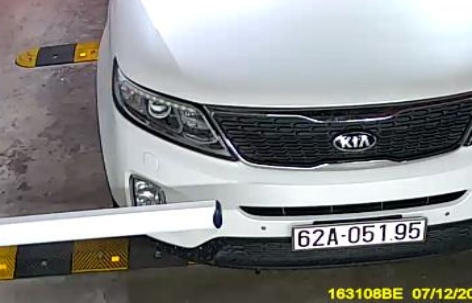plate: (287, 210, 430, 255)
